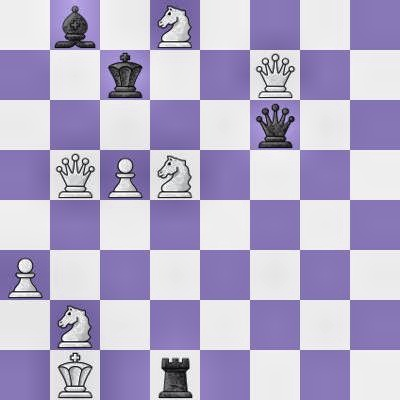black-bishop: (50, 0, 100, 50)
black-king: (100, 50, 150, 100)
black-queen: (250, 100, 300, 150)
black-rook: (150, 350, 200, 400)
white-king: (50, 350, 100, 400)
white-knight: (150, 0, 200, 50), (150, 150, 200, 200), (50, 300, 100, 350)
white-pawn: (100, 150, 150, 200), (0, 250, 50, 300)
white-queen: (250, 50, 300, 100), (50, 150, 100, 200)
